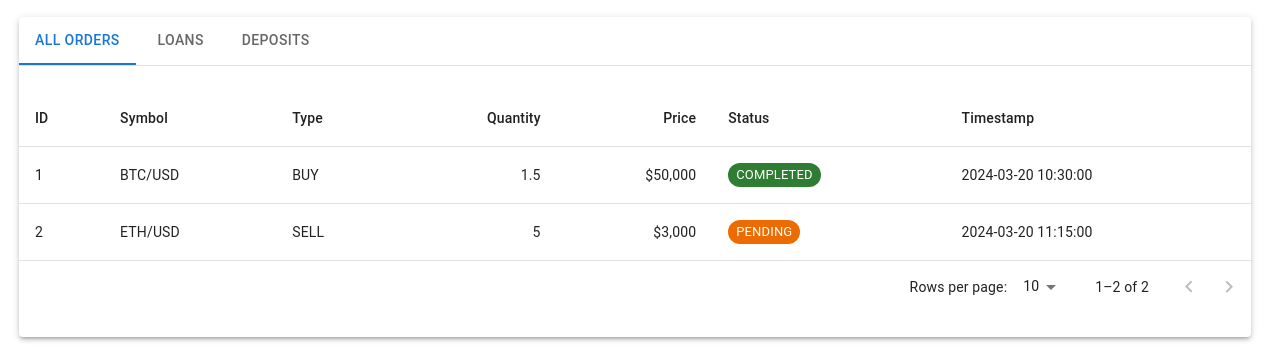
Test: OrderBook Component › filters orders based on selected tab
Expected: the text "BTC/USD" is shown, [104,146,276,204]
Expected: the text "ETH/USD" is shown, [104,204,276,260]
# Switch to Loans tab (BUY orders)
Click the tab "Loans" at (181, 41), box [136,17,226,65]
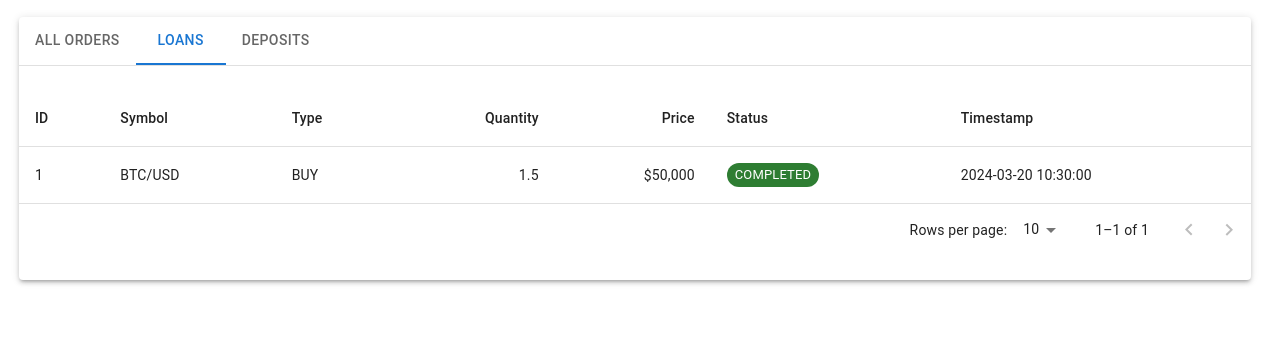
Expected: the text "BTC/USD" is shown, [104,146,276,204]
Now the text "ETH/USD" is gone
# Switch to Deposits tab (SELL orders)
Click the tab "Deposits" at (276, 41), box [226,17,326,65]
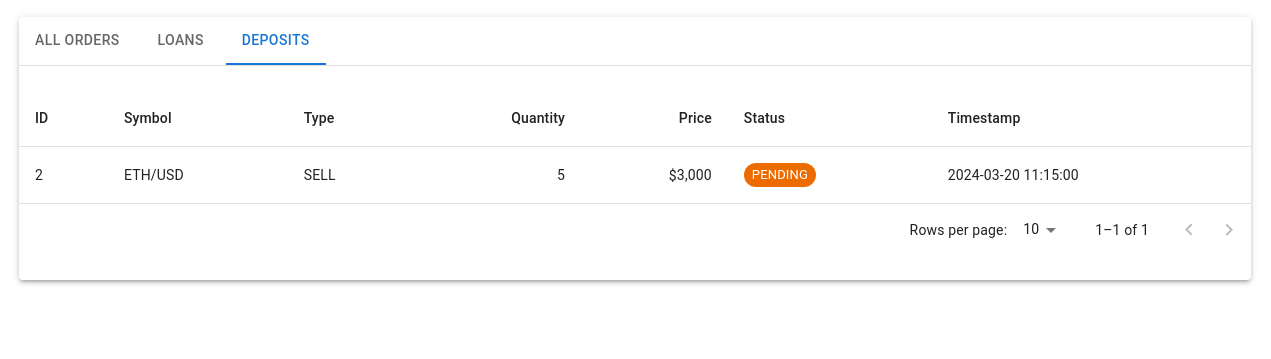
Now the text "BTC/USD" is gone
Now the text "ETH/USD" is shown, box [108,146,288,204]
